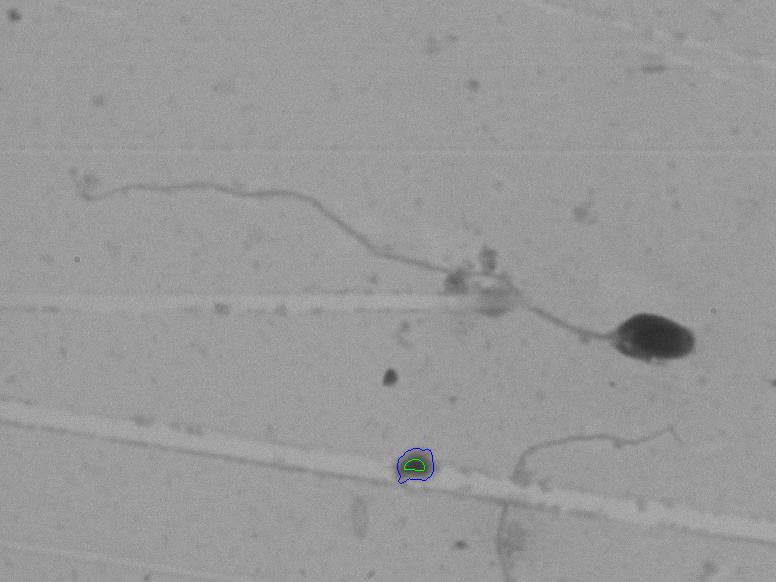Abnormal: (68, 118, 694, 378)
